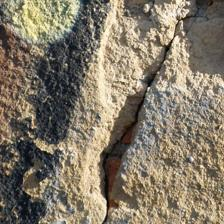Crack: (50, 12, 131, 209)
